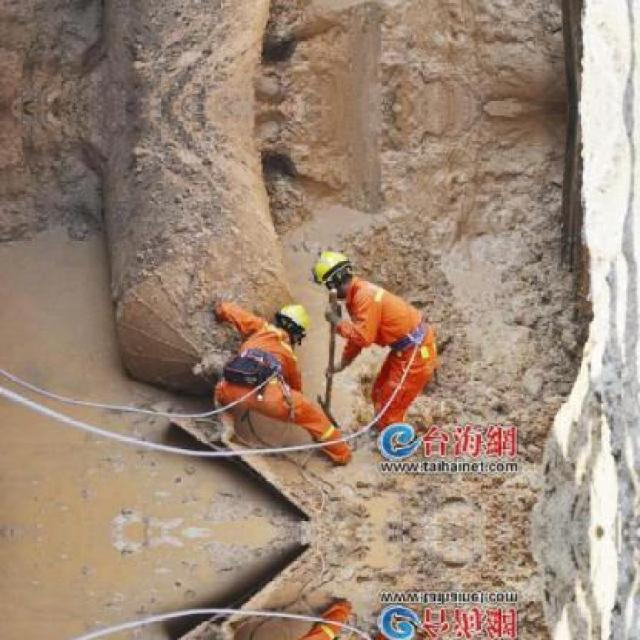helmet: (310, 247, 355, 295), (268, 298, 314, 342)
